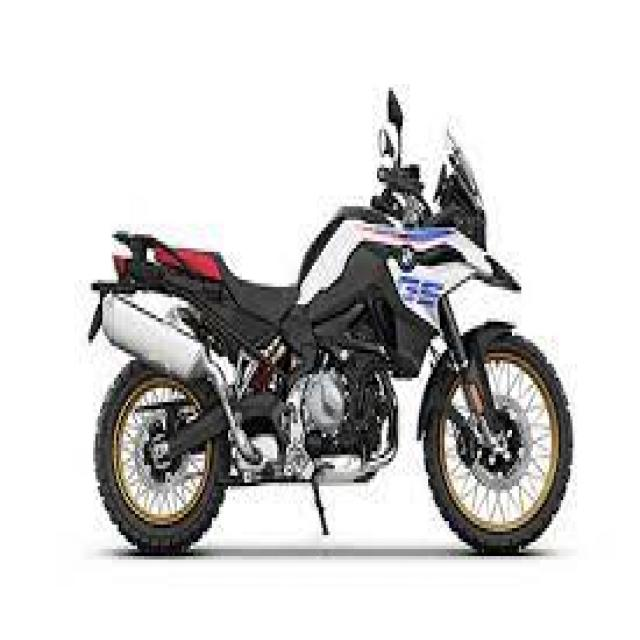Bike: (98, 120, 568, 564)
